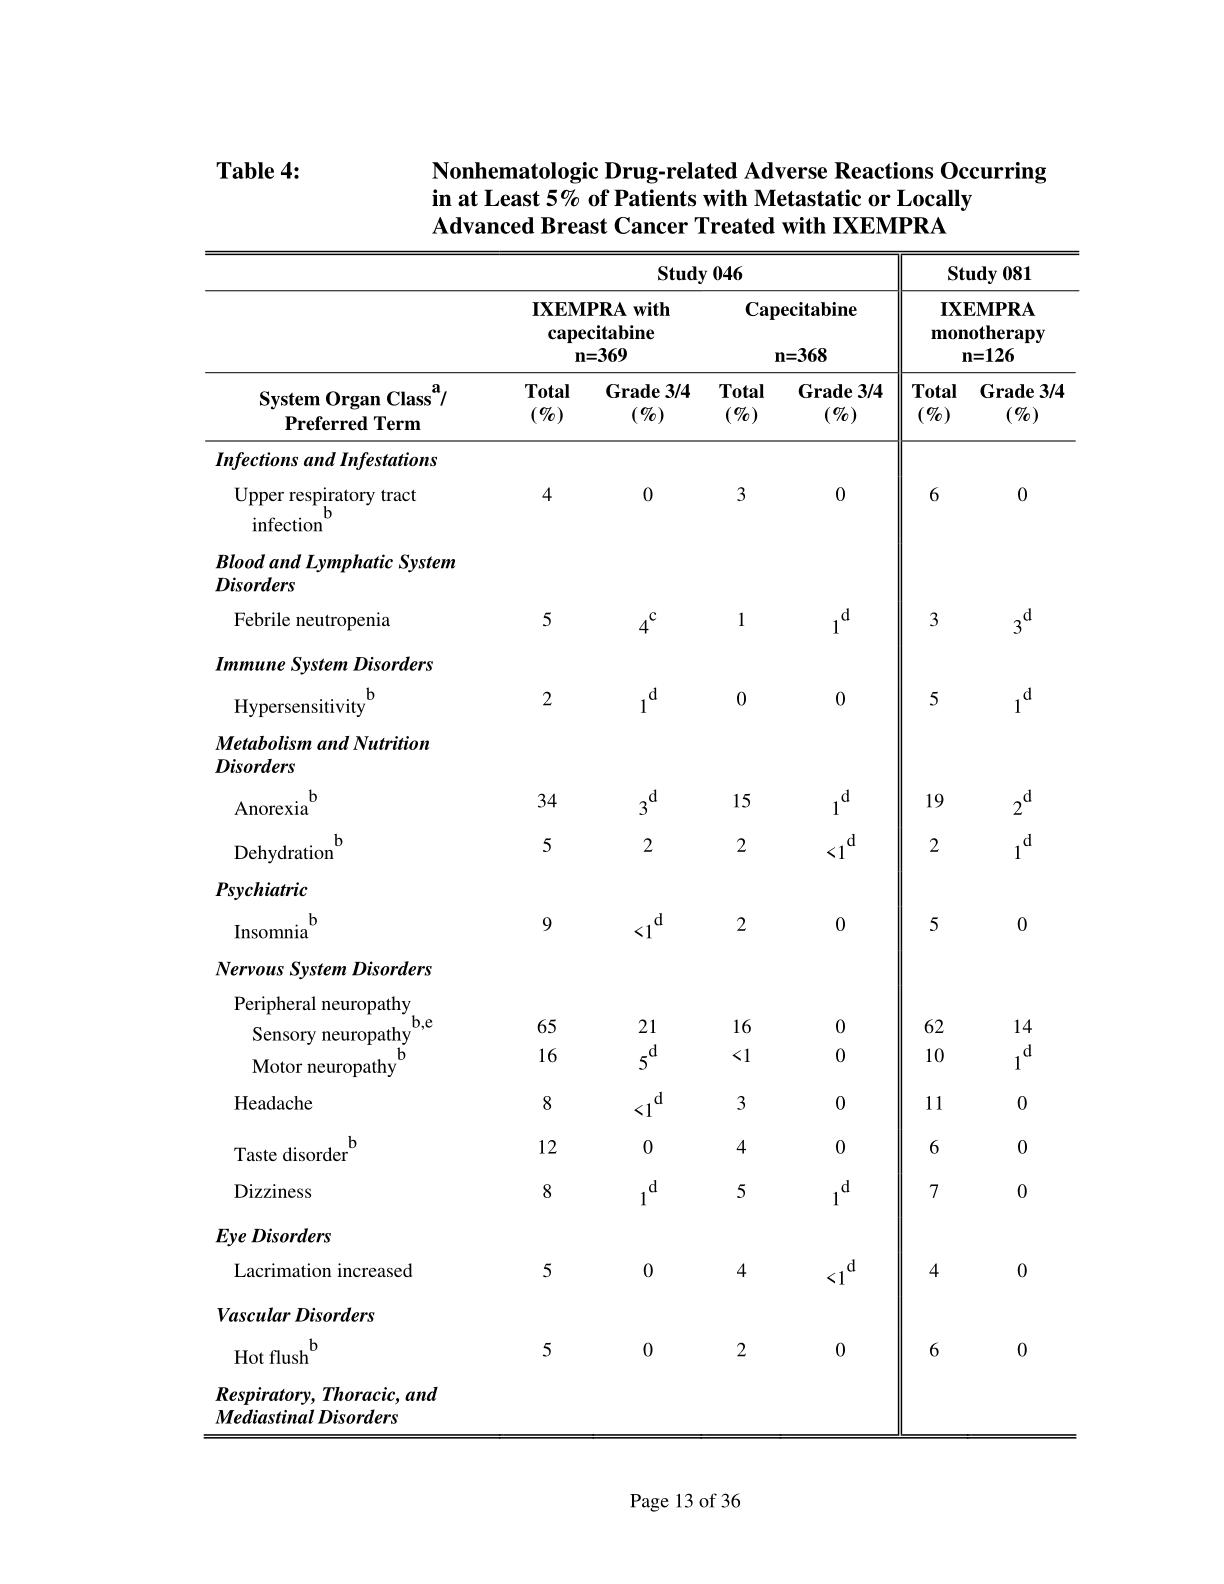partial_lined_merged_cells: (201, 249, 1081, 1441)
